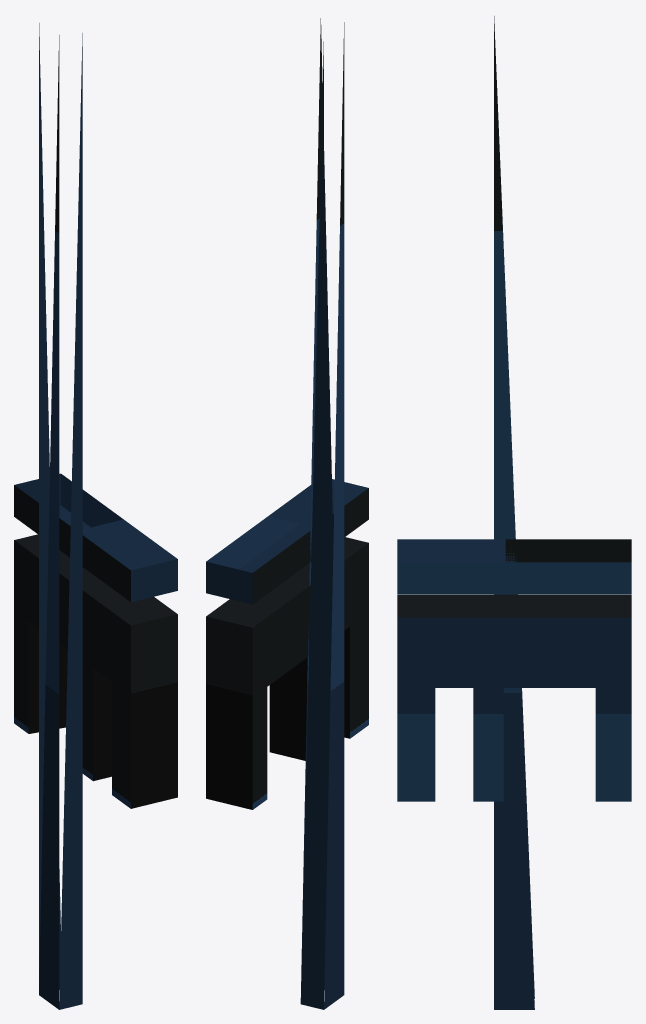
3 renders of one model, left to right at view 1: azimuth 30°, elevation 25°; view 2: azimuth 150°, elevation 25°; view 3: azimuth 270°, elevation 25°, orthographic.
Bounding box in the file's own units: 0.3 × 4 × 0.8632.
